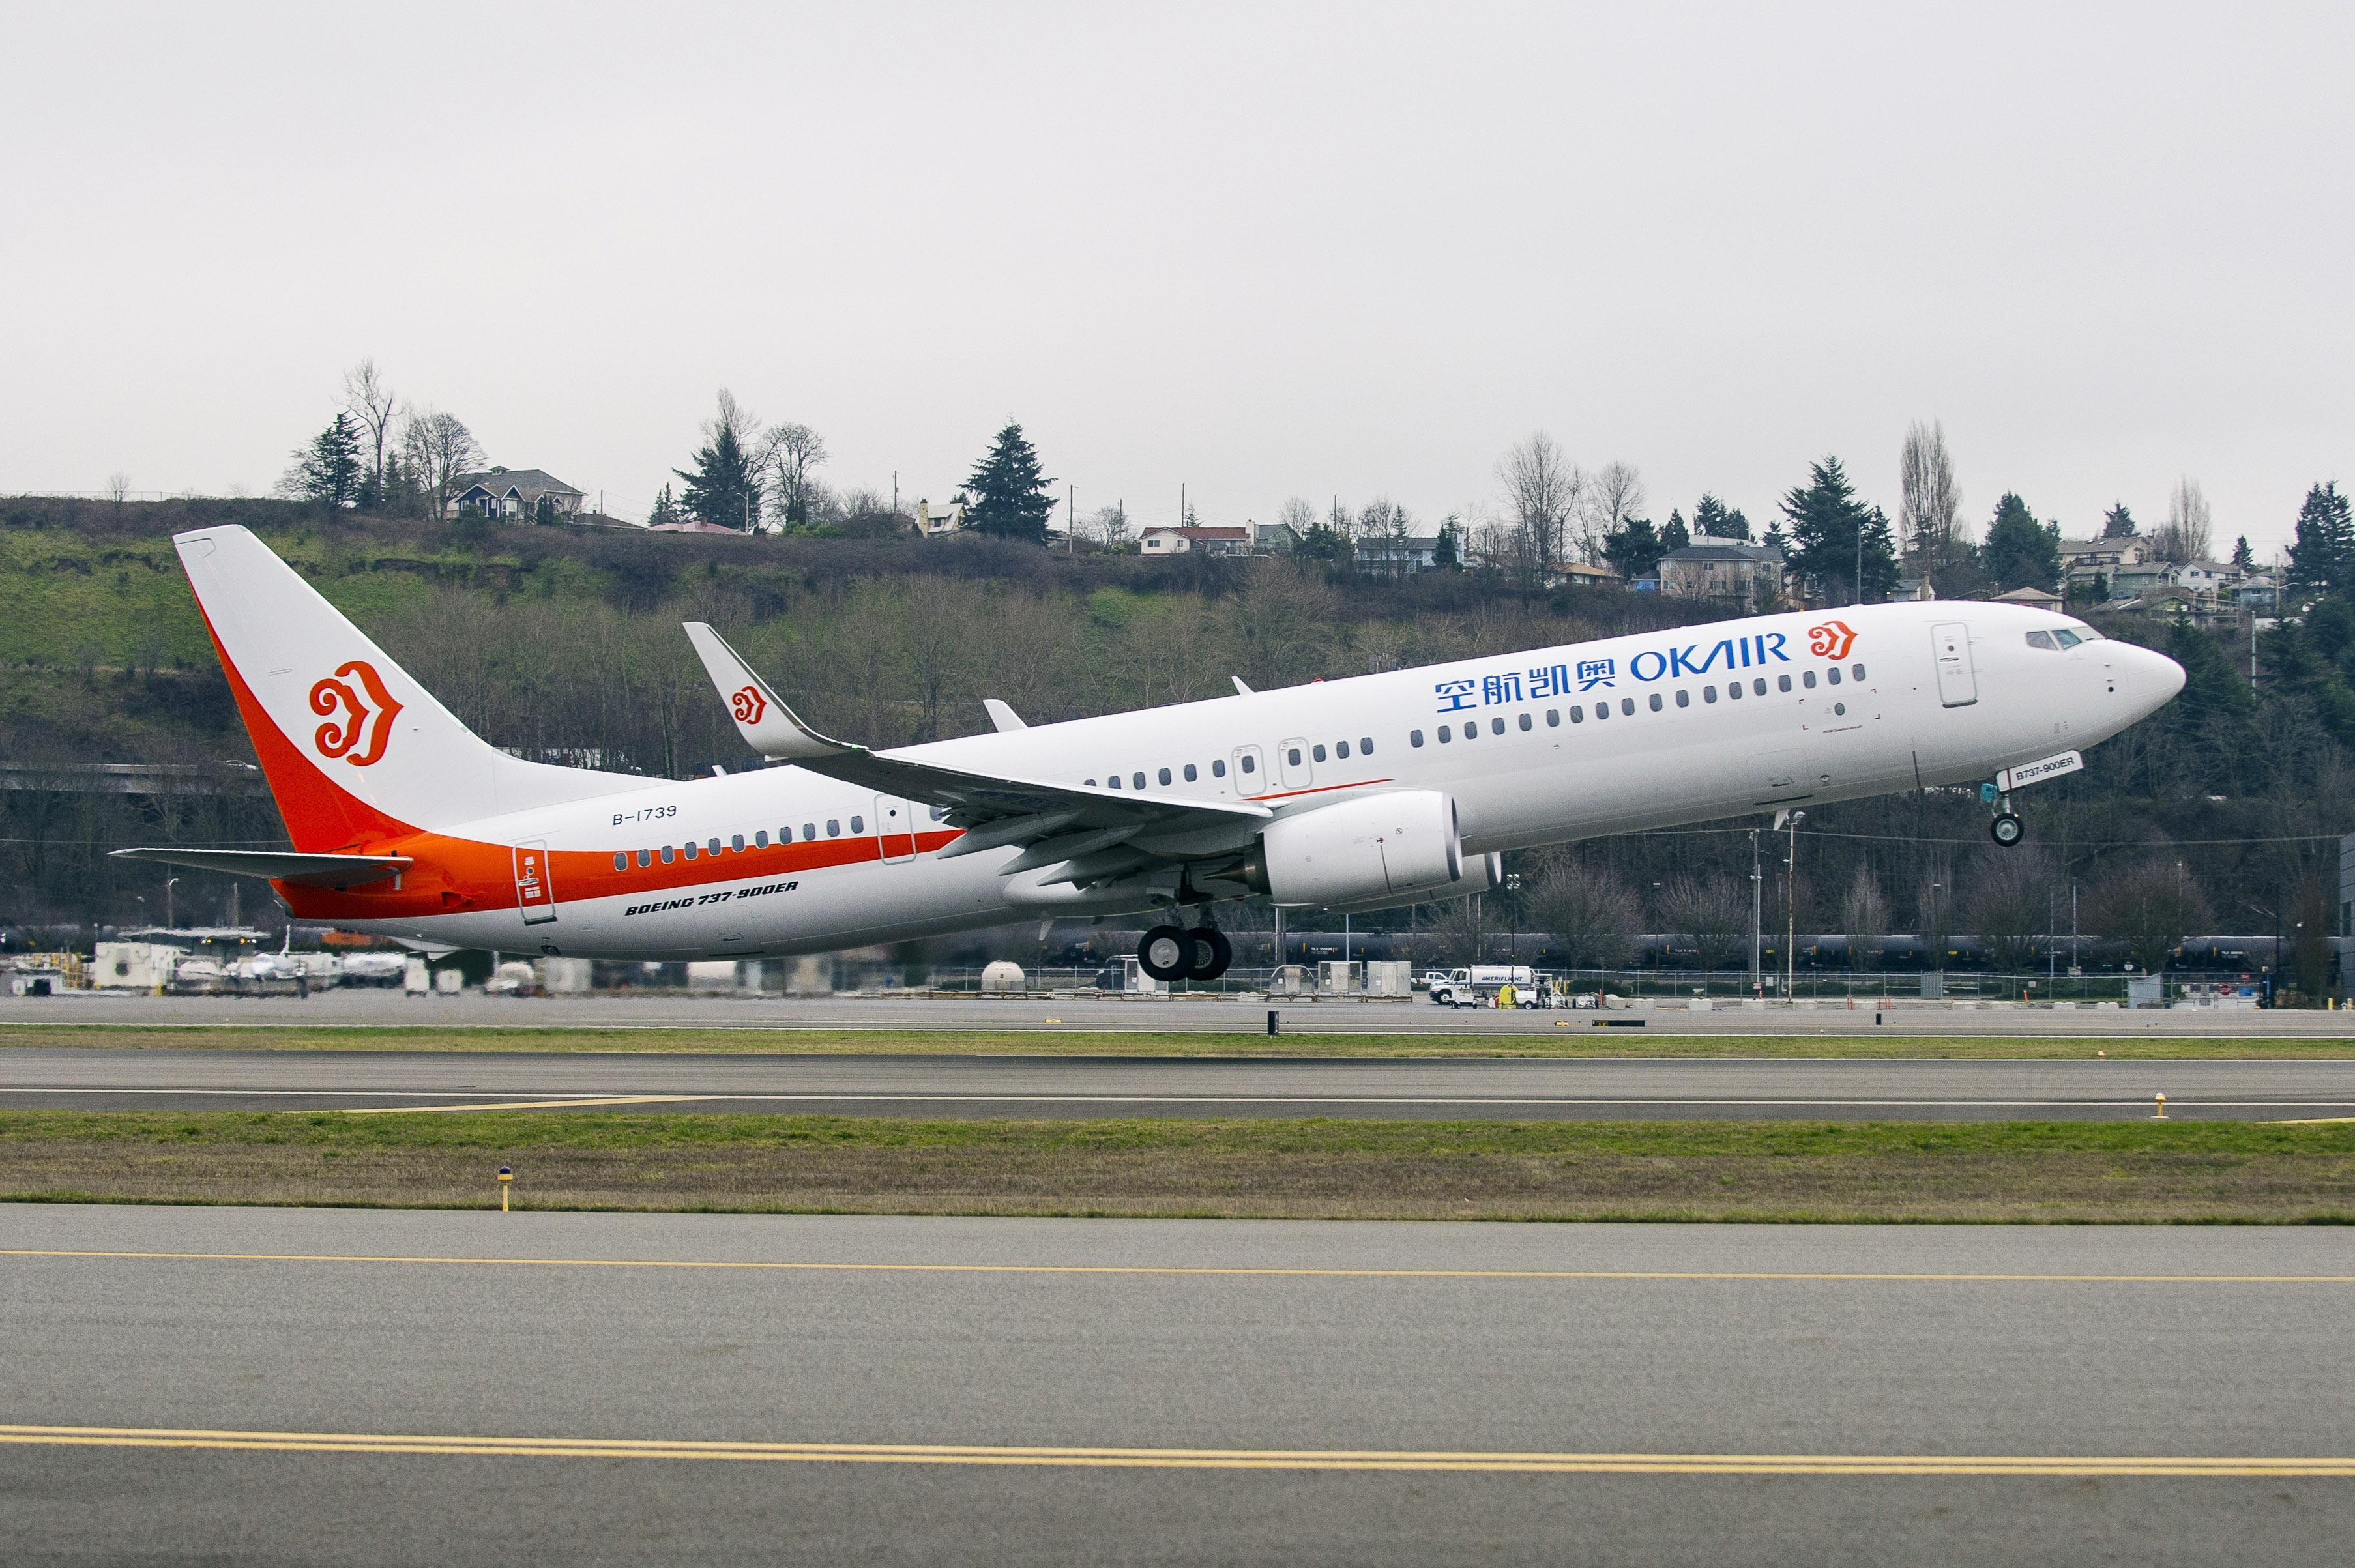airplane: (152, 462, 2205, 983)
